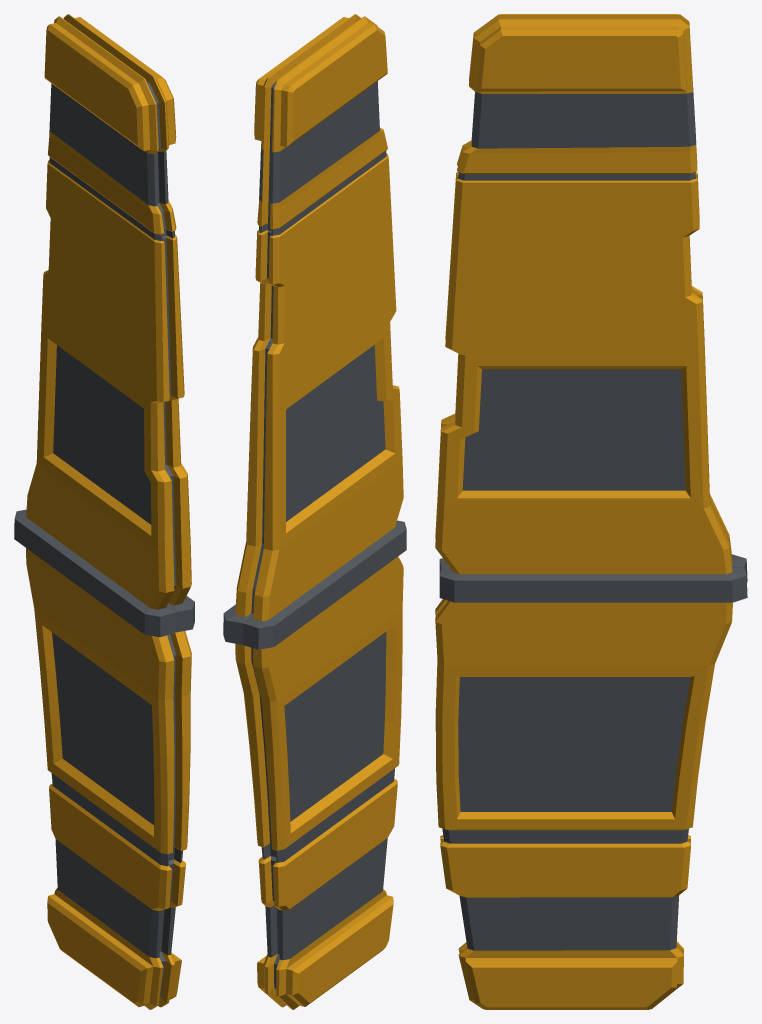
The model's file is Fighter_05_Wing_Left_Yellow.fbx.
The picture shows the model from 3 angles, left to right: view 1: azimuth 30°, elevation 25°; view 2: azimuth 150°, elevation 25°; view 3: azimuth 270°, elevation 25°; orthographic projection. The views are drawn at different scales.
Parts seen in each view (by area): view 1: Fighter_05_Wing_Left_Yellow; view 2: Fighter_05_Wing_Left_Yellow; view 3: Fighter_05_Wing_Left_Yellow.
Part boxes in pixels (x1,y1,x2,y2): Fighter_05_Wing_Left_Yellow: (14,14,194,1009); Fighter_05_Wing_Left_Yellow: (223,14,406,1009); Fighter_05_Wing_Left_Yellow: (435,14,747,1009).
Bounding box in the file's own units: 103 × 1811 × 518.
Materials: 1 (1 with a texture image).
